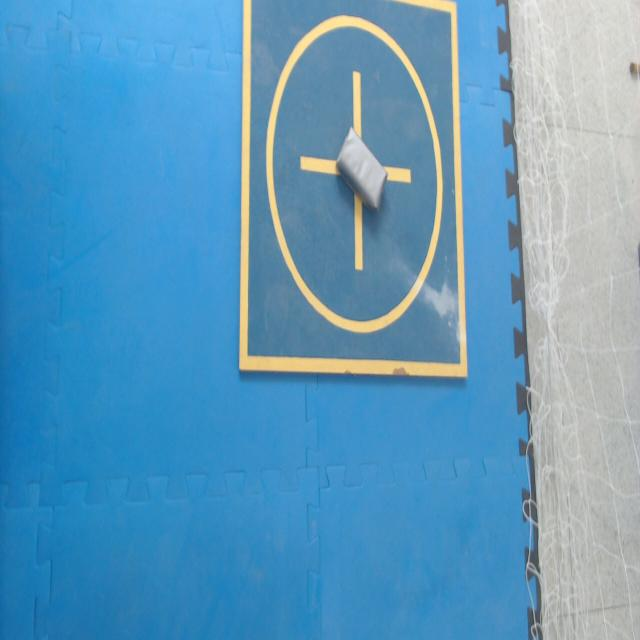esquerda: (337, 127, 387, 210)
